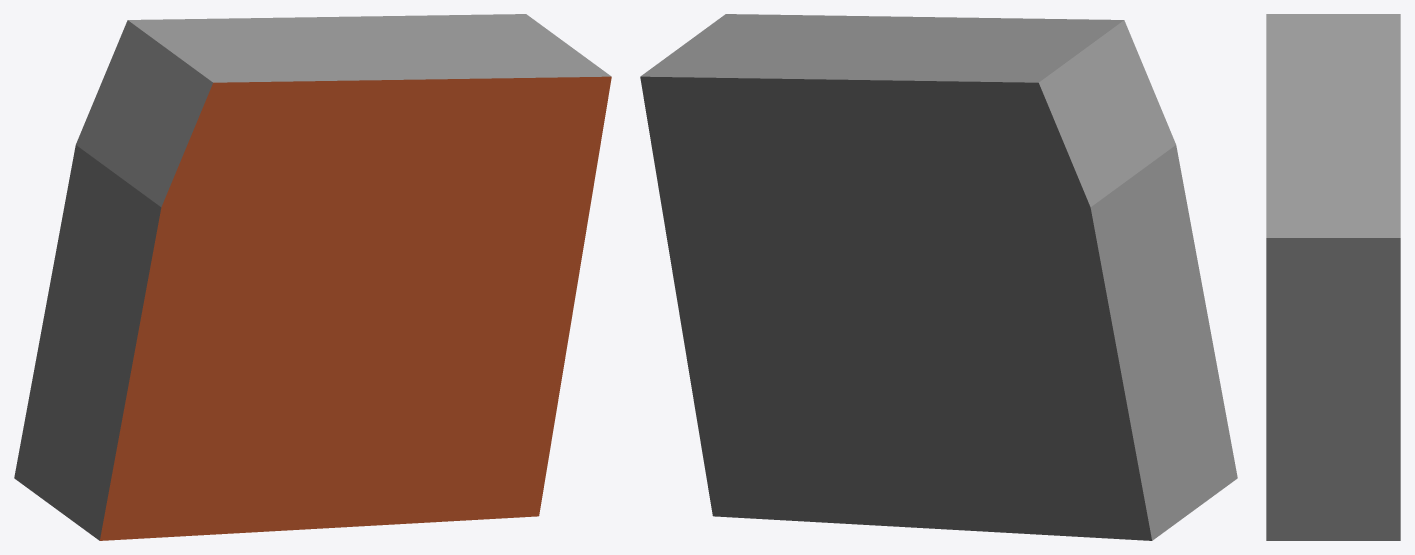
File: construction_1167_assumed_A_Casa_h6m.obj
3 renders of one model, left to right at view 1: azimuth 30°, elevation 25°; view 2: azimuth 150°, elevation 25°; view 3: azimuth 270°, elevation 25°, orthographic. The views are drawn at different scales.
Visible parts, largest first — view 1: construction_1167_assumed_A_Casa; view 2: construction_1167_assumed_A_Casa; view 3: construction_1167_assumed_A_Casa.
Part boxes in pixels (box(x1,y1,x2,y2)): construction_1167_assumed_A_Casa: box(14, 14, 611, 540); construction_1167_assumed_A_Casa: box(640, 14, 1237, 540); construction_1167_assumed_A_Casa: box(1266, 14, 1400, 540).
Size of the model in its own units: 20.72 by 19.84 by 6.
